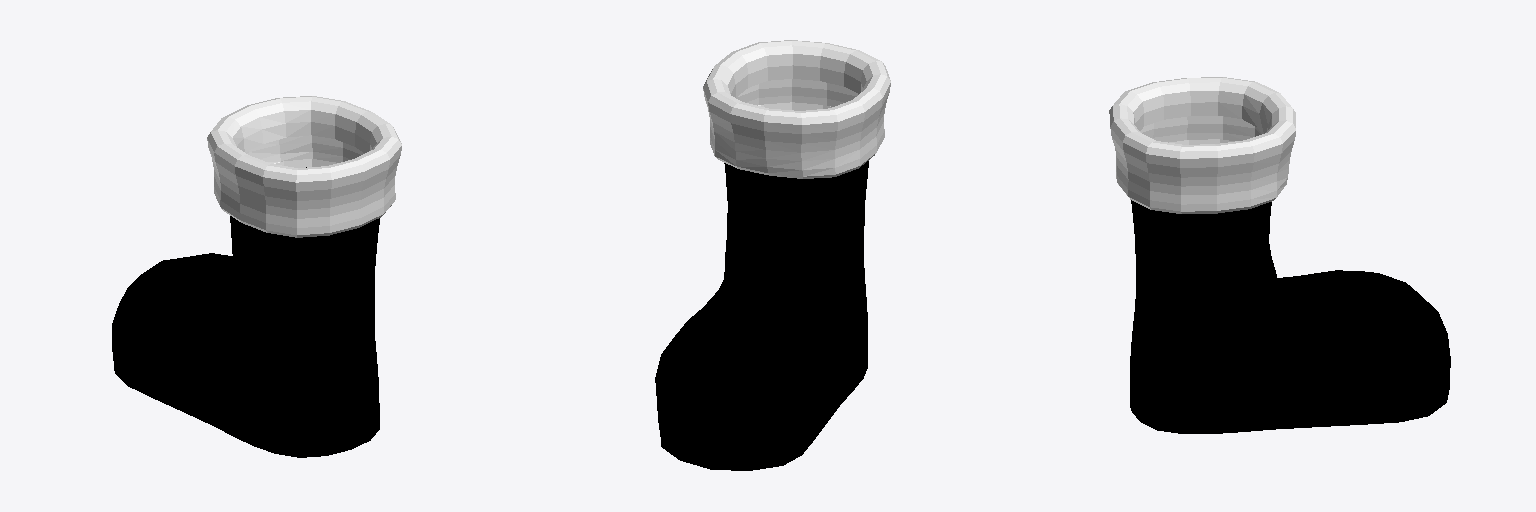
3 renders of one model, left to right at view 1: azimuth 30°, elevation 25°; view 2: azimuth 150°, elevation 25°; view 3: azimuth 270°, elevation 25°, orthographic.
Visible parts, largest first — view 1: PieIzq_santa.007; view 2: PieIzq_santa.007; view 3: PieIzq_santa.007.
Boxes of the visible parts, box(x1,y1,x2,y2) form: PieIzq_santa.007: box(112, 96, 401, 457); PieIzq_santa.007: box(655, 40, 890, 470); PieIzq_santa.007: box(1109, 77, 1450, 433).
Size of the model in its own units: 3.2 by 5.09 by 5.3.
Materials: 1 (1 with a texture image).